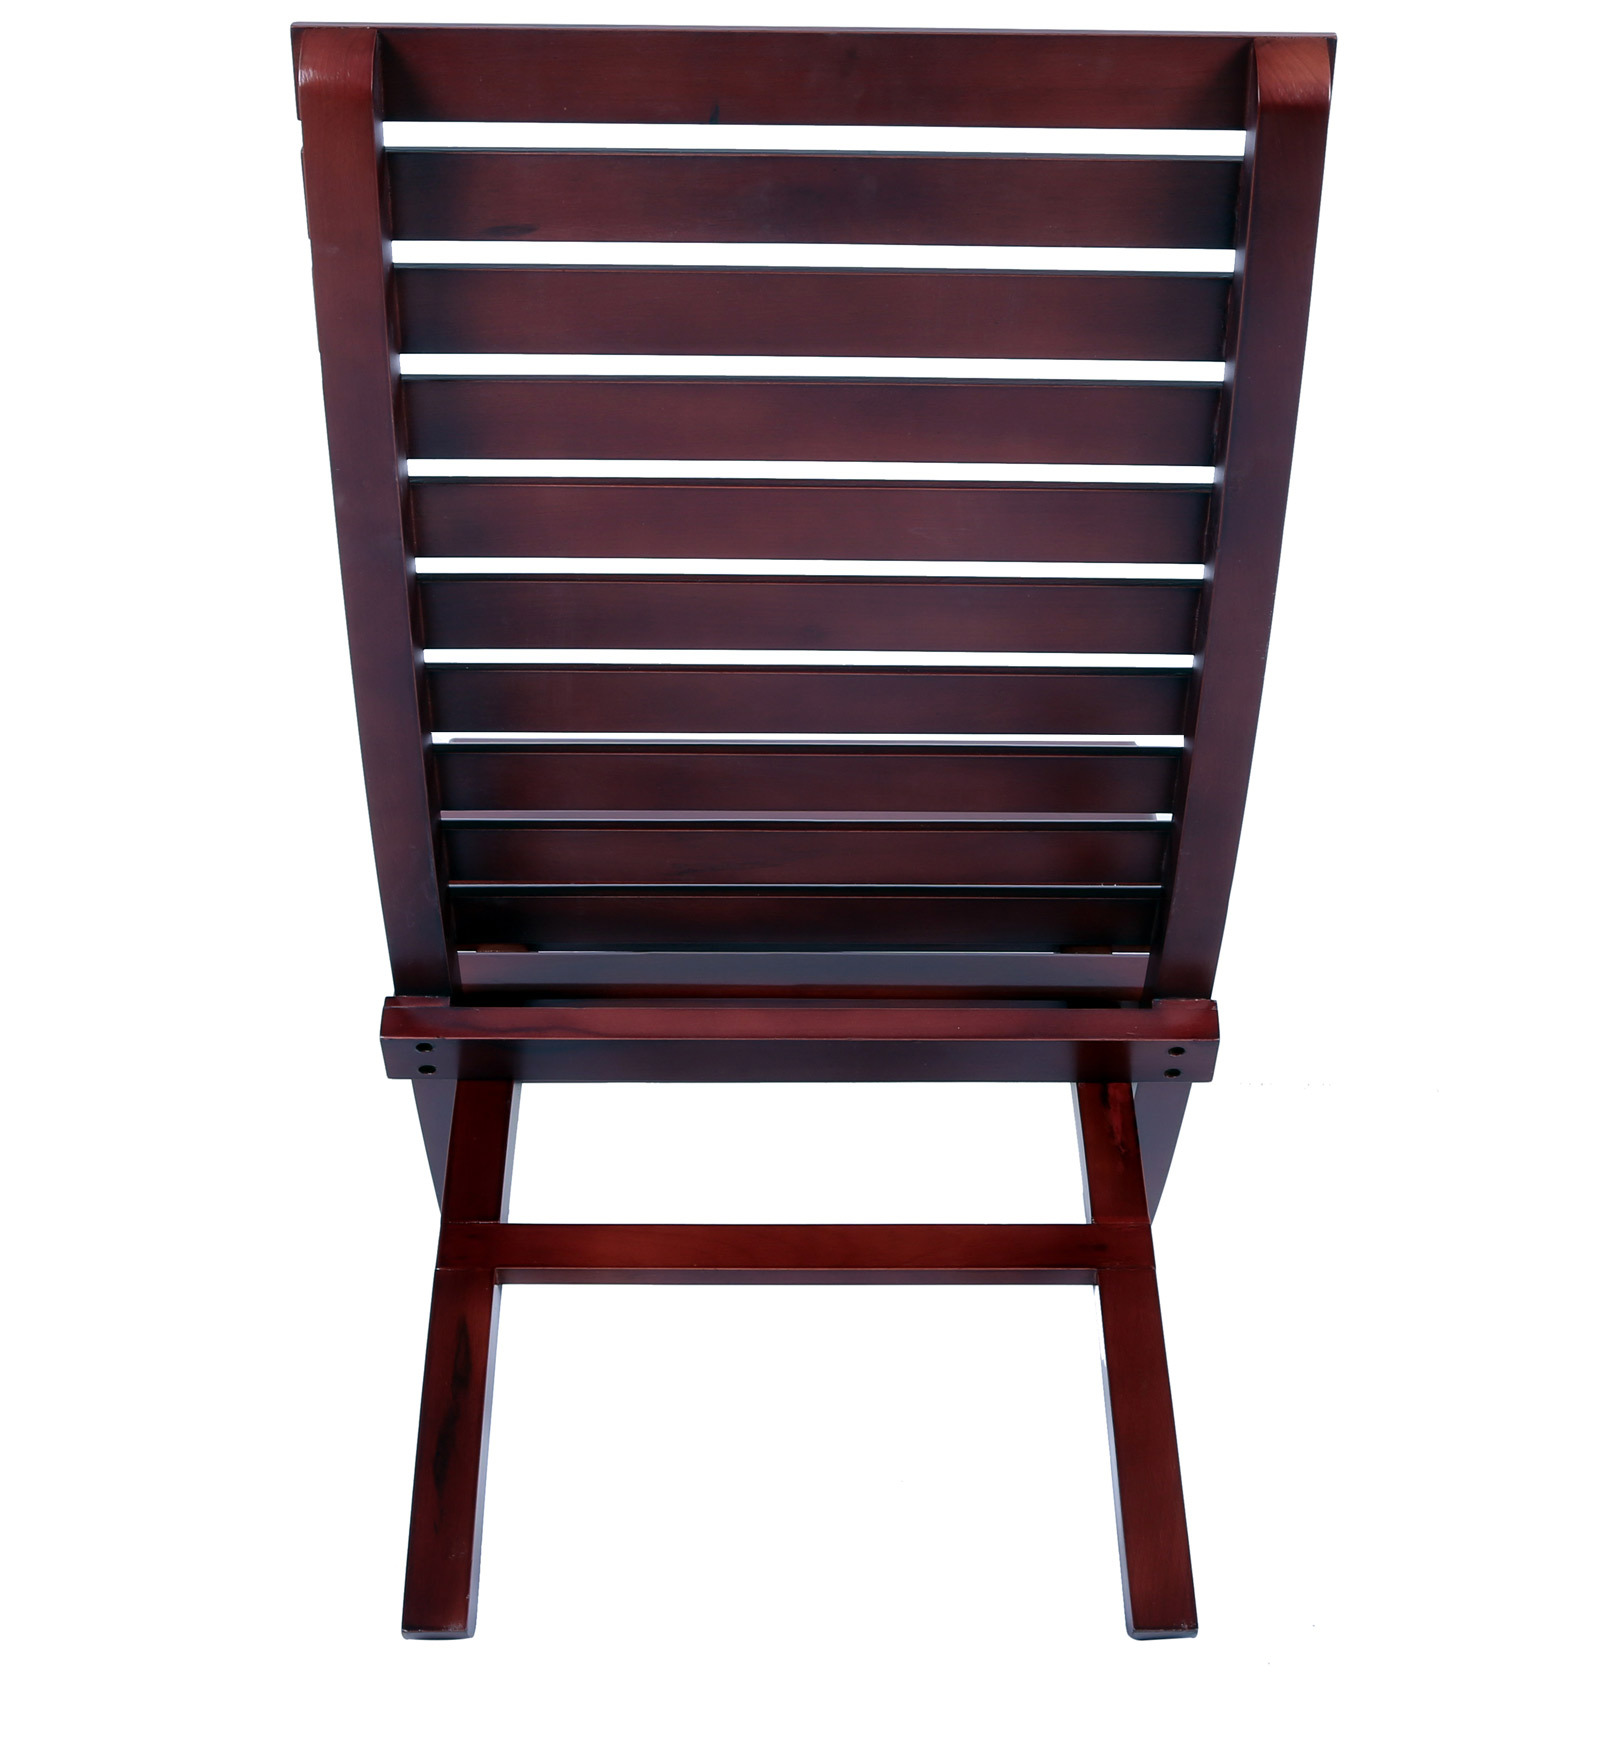Foldable Chair in Brown Colour by ClasiCraft: (257, 8, 1369, 1688)
